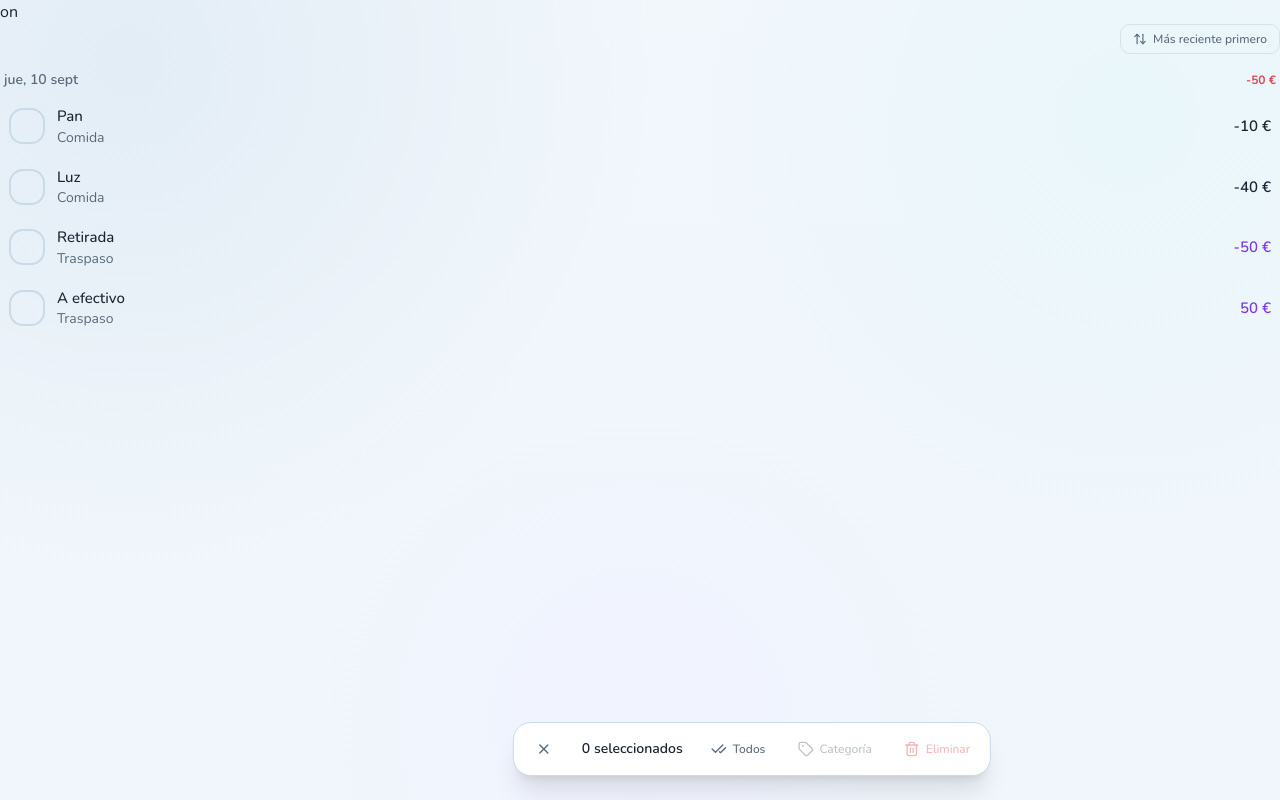
Test: ExpenseList selection mode › changes the category of the selection and leaves selection mode
The image size is (1280, 800).
Click the text "Pan": (70, 116) [57,106,83,126]
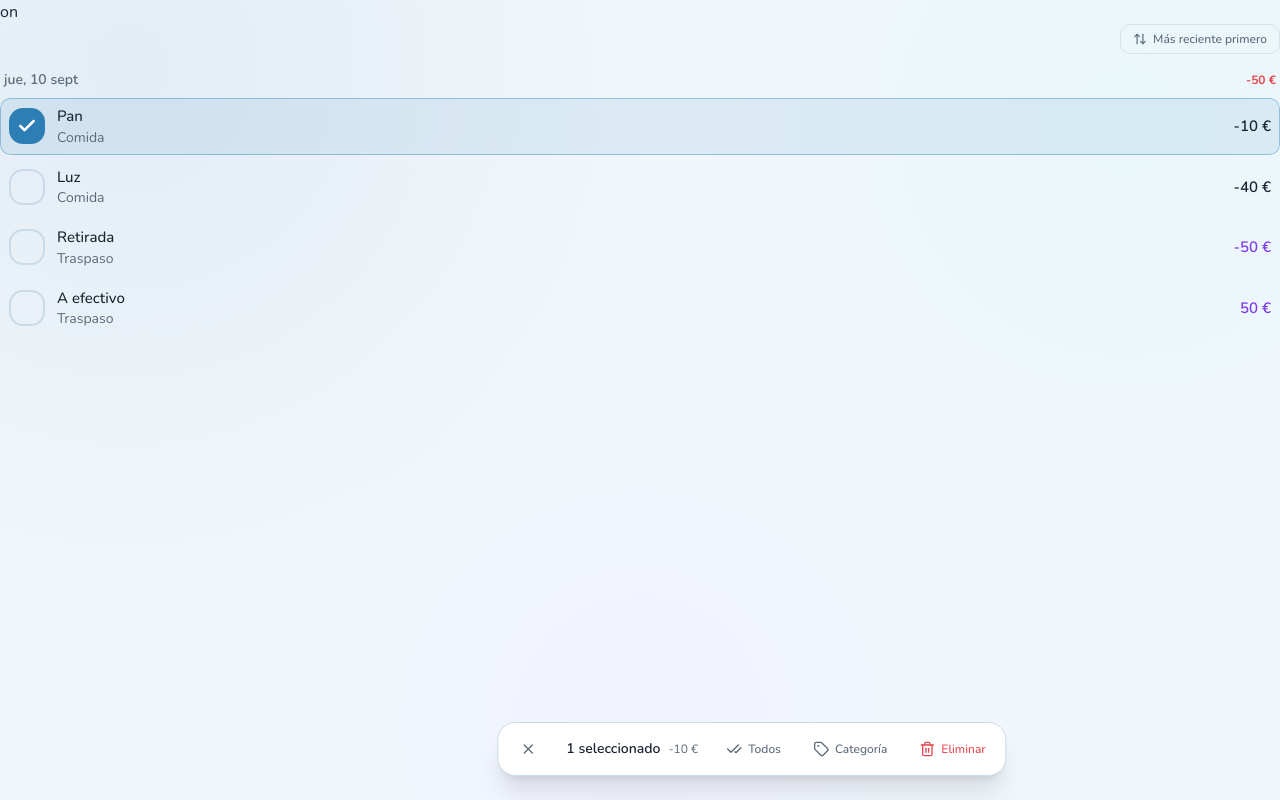
Click the text "Luz": (69, 176) [57,166,80,186]
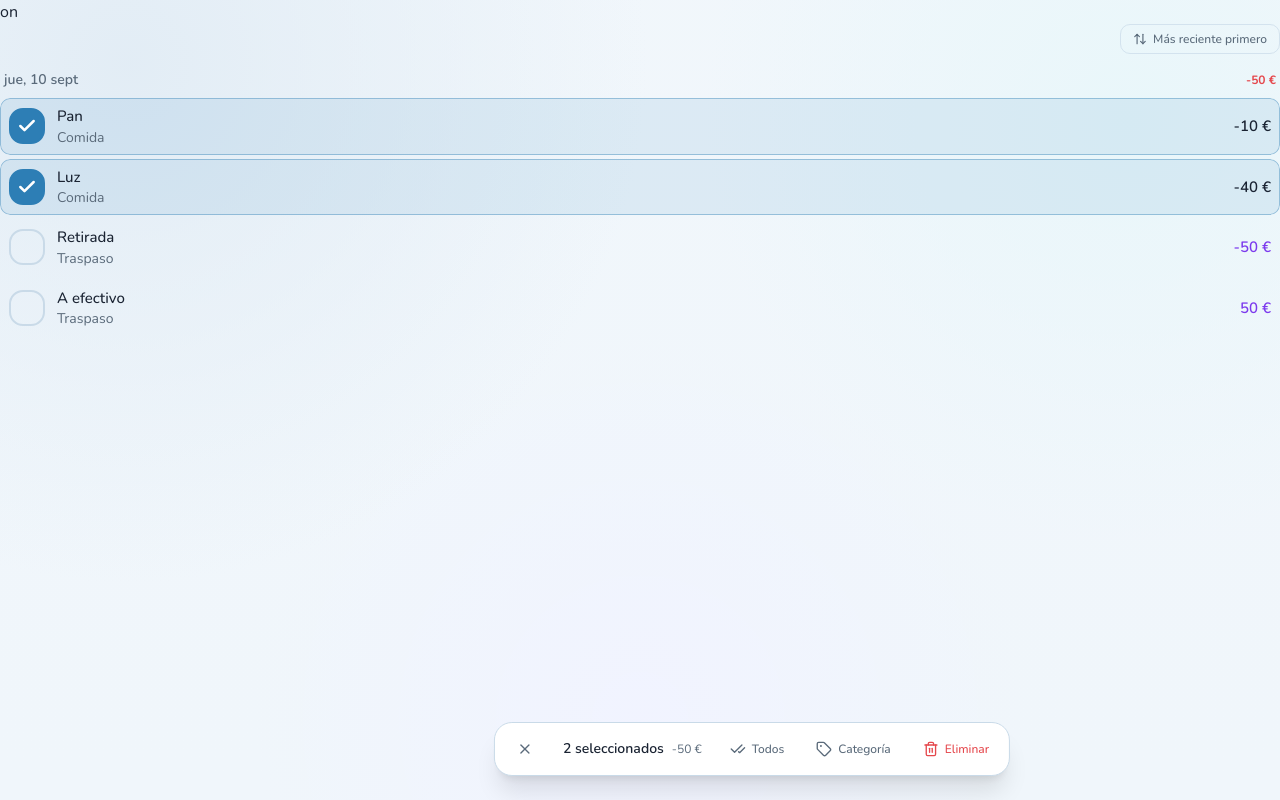
Click the button "Categoría": (854, 749) [804,731,903,767]
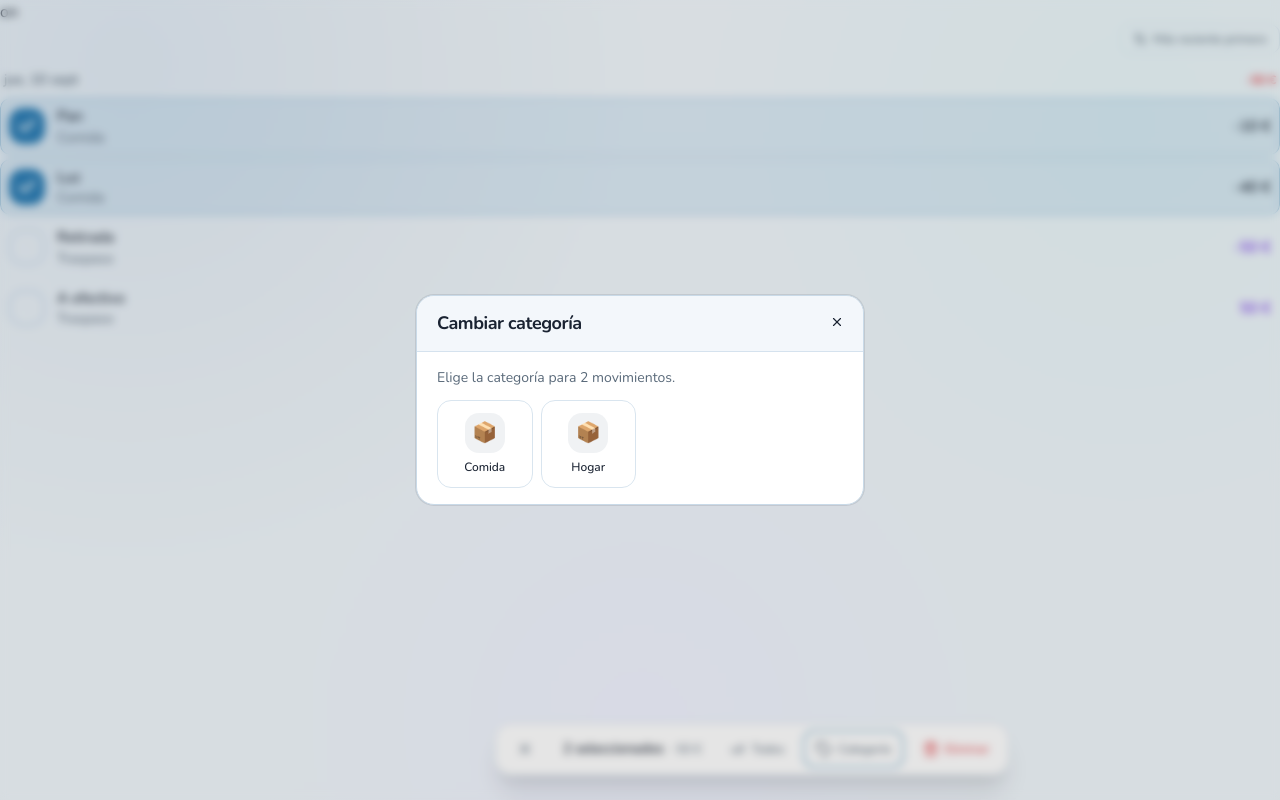
Click the button "📦 Hogar": (588, 444) [540,400,636,488]
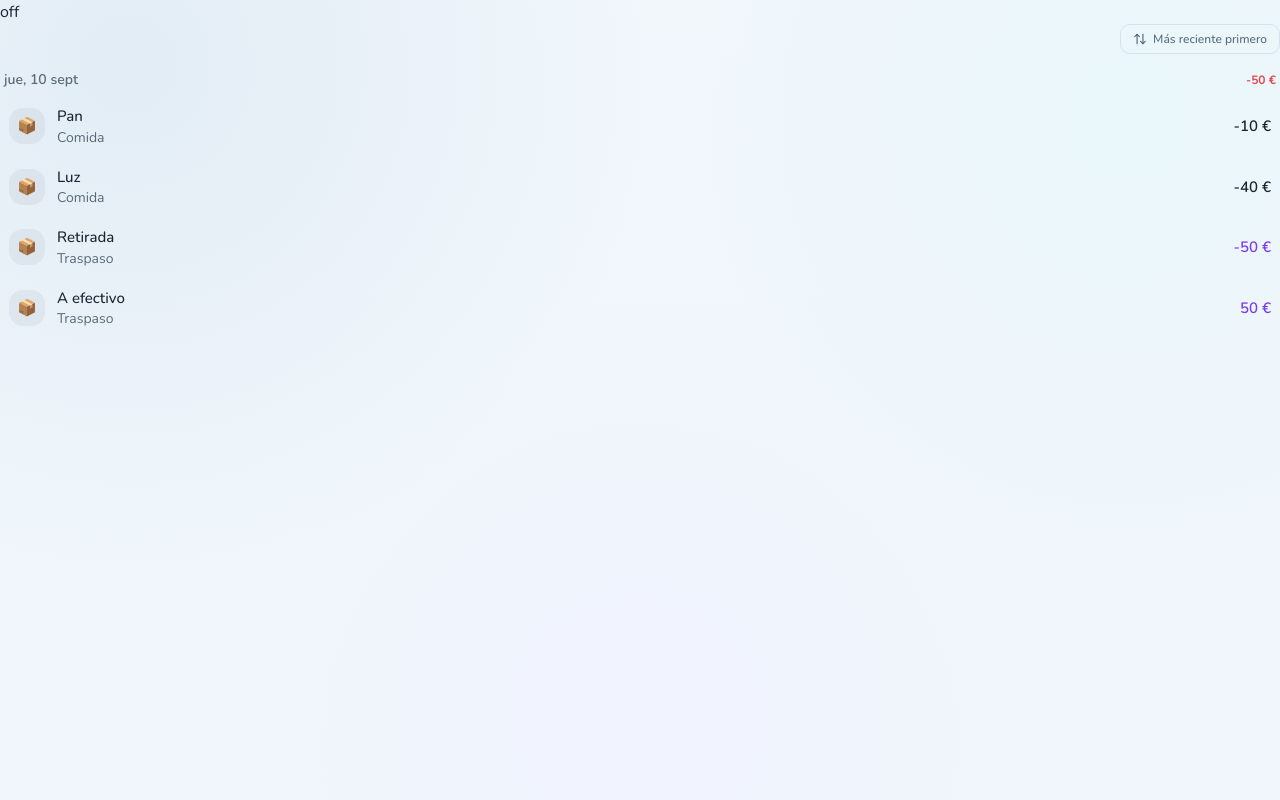
Result: the text with test id "mode" reads "off" at [0,1,19,23]
Result: the checkbox is gone
